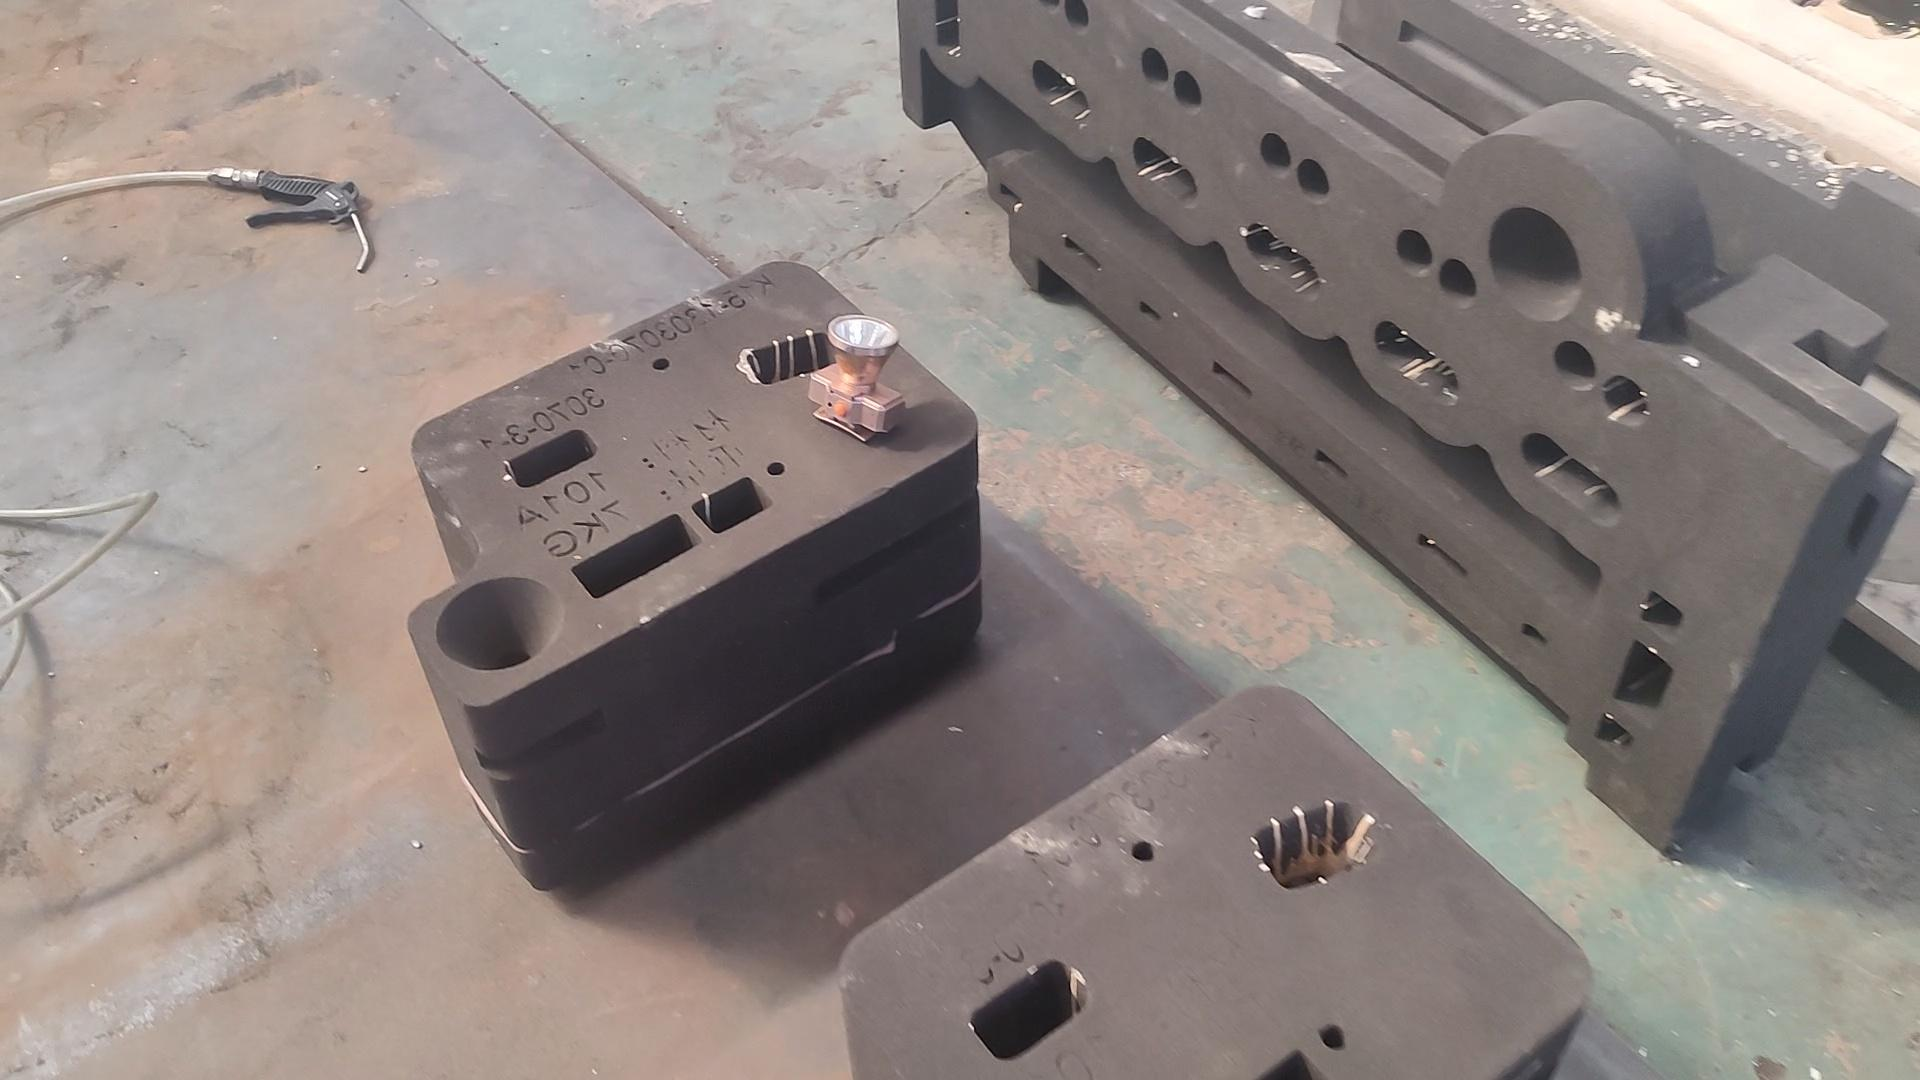pouring hole: (436, 578, 563, 673), (1487, 207, 1584, 323)
